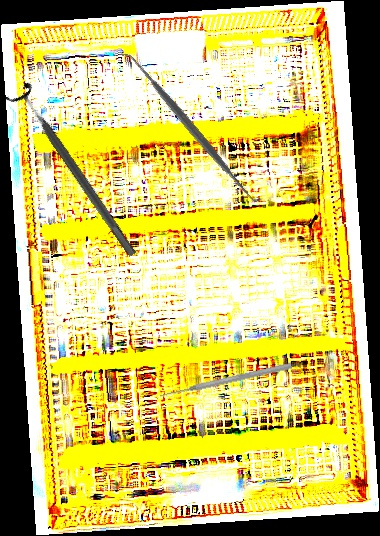Fixation Ring: (3, 80, 147, 264)
Pusher: (158, 360, 293, 401)
Spatula Surgical: (116, 42, 264, 212)
